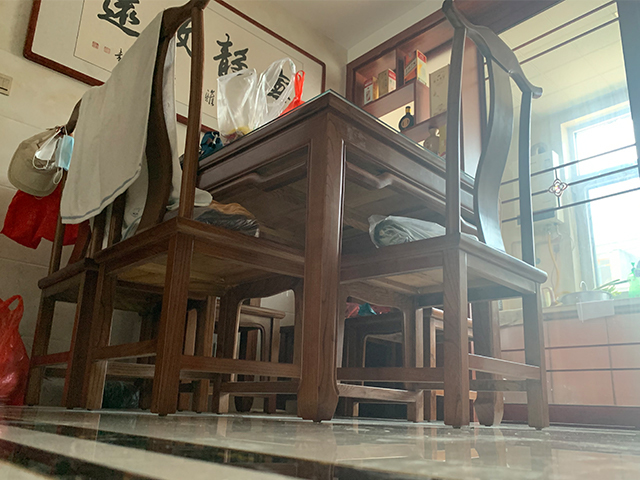stool: (323, 1, 550, 432), (76, 1, 310, 419), (24, 95, 193, 414), (338, 297, 474, 426), (177, 295, 287, 415)
table: (183, 89, 506, 429)
